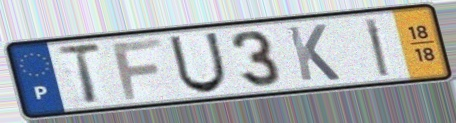3: (229, 29, 284, 88)
F: (109, 36, 165, 103)
I: (362, 15, 392, 79)
K: (283, 22, 343, 83)
T: (53, 40, 106, 107)
U: (166, 30, 230, 96)
